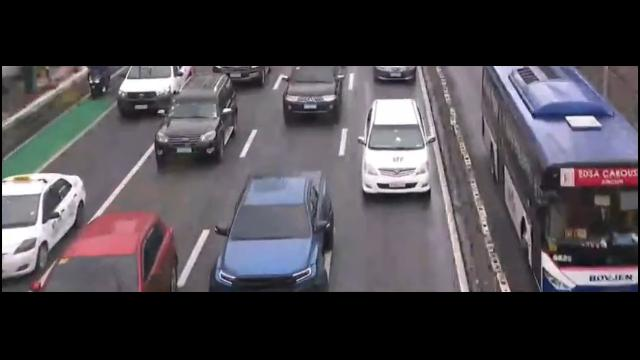bus: (479, 65, 640, 292)
car: (31, 213, 177, 294), (0, 174, 86, 282), (150, 72, 237, 171), (363, 97, 433, 200), (114, 66, 186, 118), (281, 66, 347, 122), (211, 65, 271, 87), (373, 66, 418, 83)
motorcycle: (85, 65, 110, 99)
pickup-truck: (214, 172, 335, 291)
